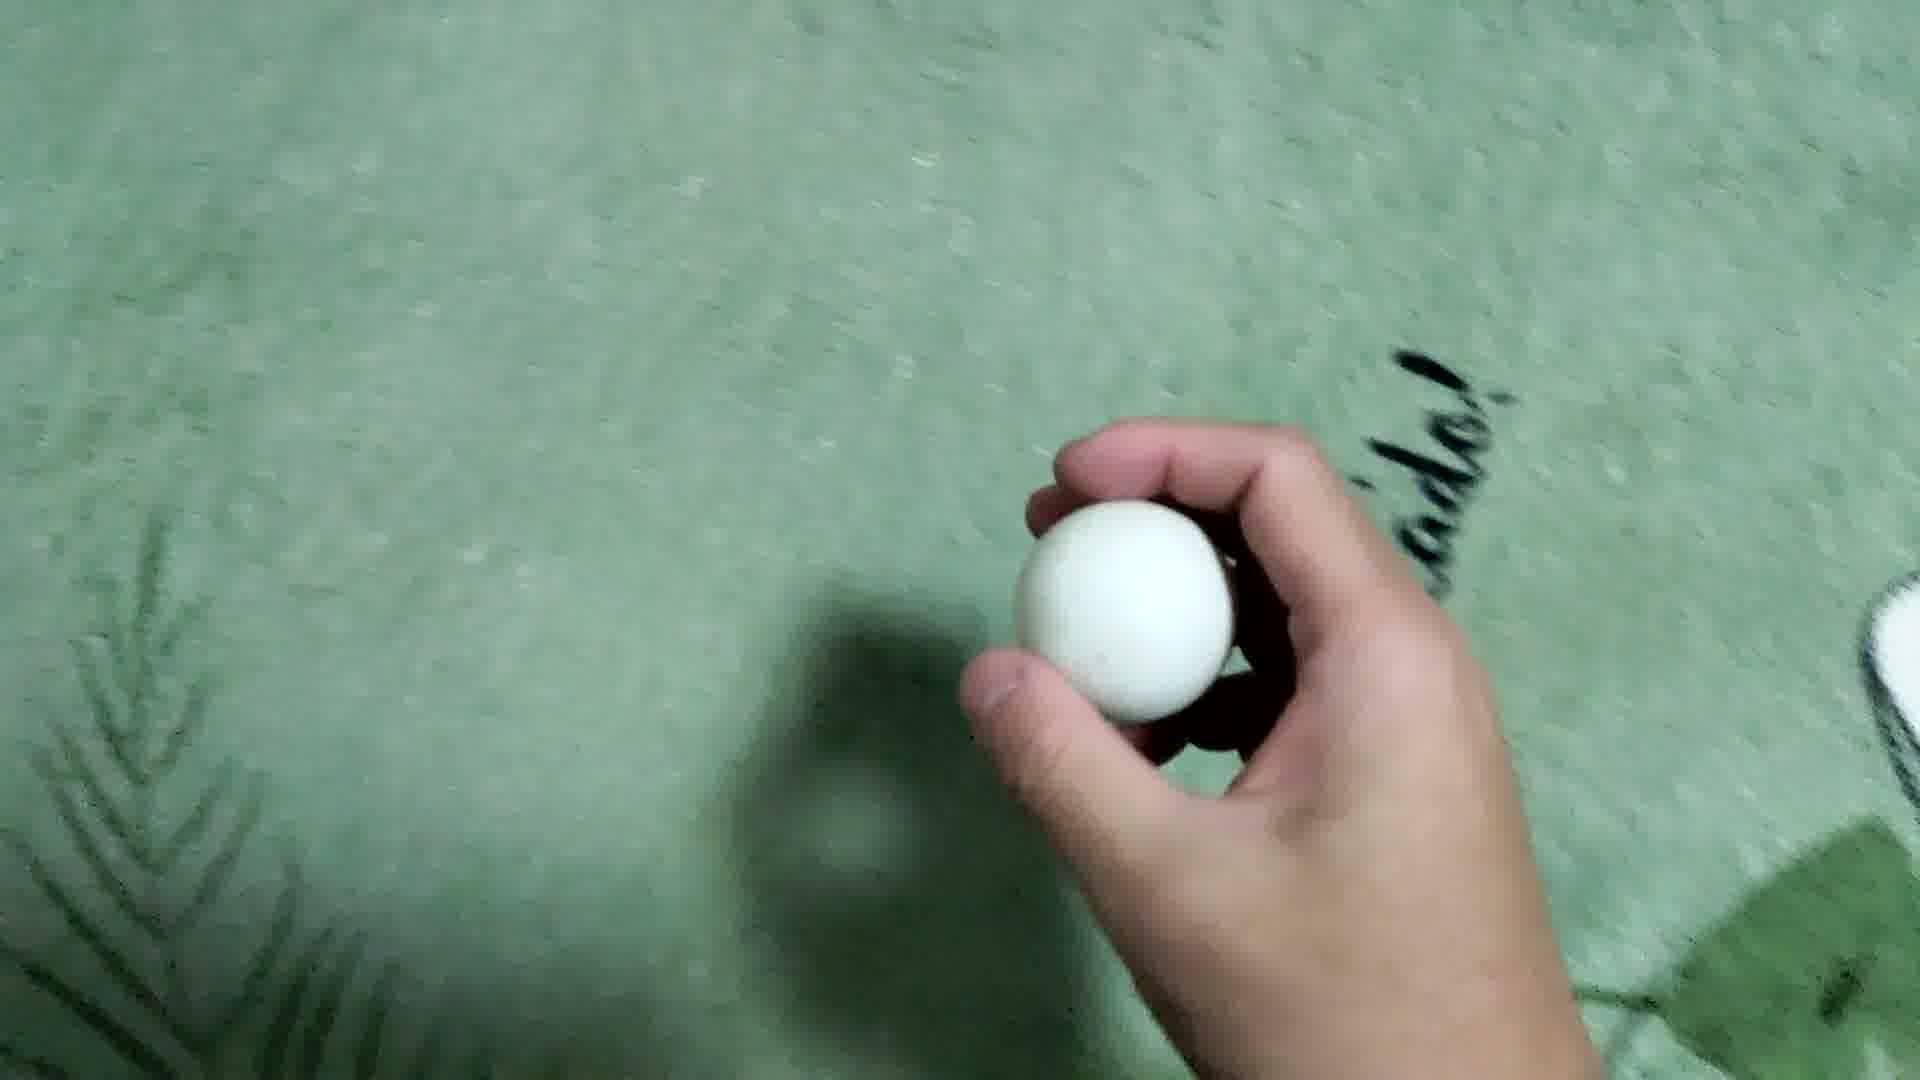Ball: (1021, 498, 1233, 721)
